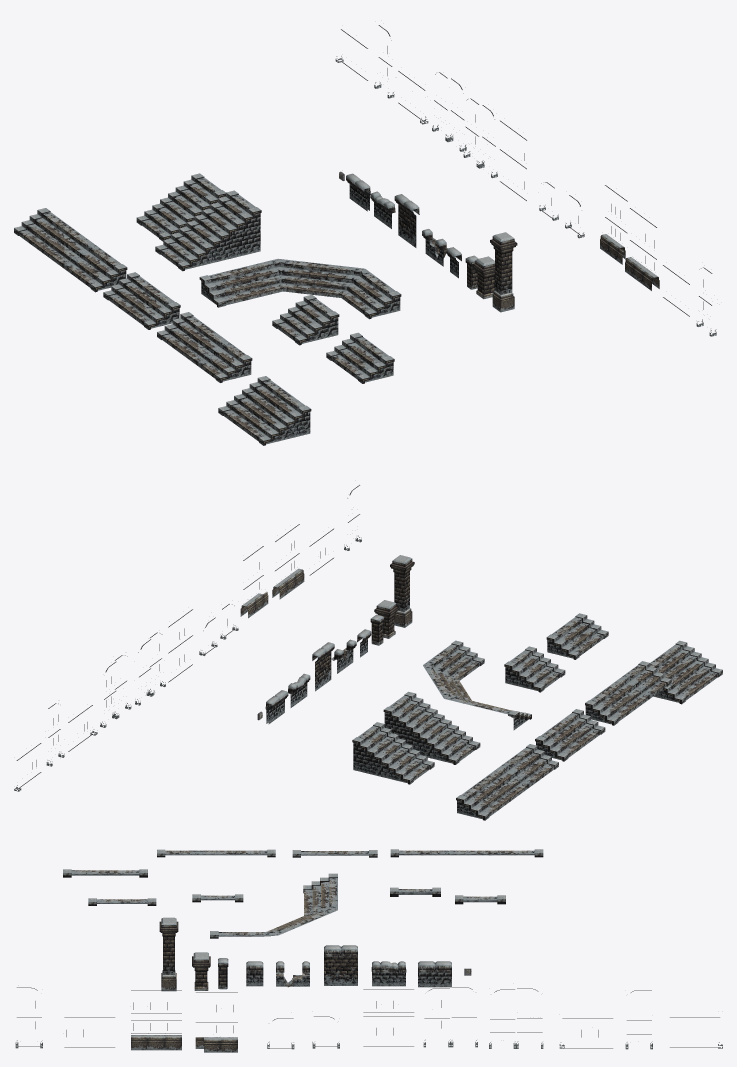
Rendered from EnvMdrMD_Snow_B_Jail_Exterior_Fence_A.FBX.
3 views of the same model, one above another, from view 1: azimuth 30°, elevation 25°; view 2: azimuth 150°, elevation 25°; view 3: azimuth 270°, elevation 25° (orthographic). The views are drawn at different scales.
Parts seen in each view (by area): view 1: EnvMdrMD_Snow_B_Jail_Exterior_Stairs_A_Unique_A, EnvMdrMD_Snow_B_Jail_Exterior_Stairs_A_10S2W, EnvMdrMD_Snow_B_Jail_Exterior_Stairs_A_4S8W, EnvMdrMD_Snow_B_Jail_Exterior_Stairs_A_6S4W, EnvMdrMD_Snow_B_Jail_Exterior_Stairs_A_4S6W, EnvMdrMD_Snow_B_Jail_Exterior_Stairs_A_8S2W, EnvMdrMD_Snow_B_Jail_Exterior_Stairs_A_4S4W, EnvMdrMD_Snow_B_Jail_Exterior_Stairs_A_5S2W, EnvMdrMD_Snow_B_Jail_Exterior_Stairs_A_4S3W, EnvMdrMD_Snow_B_Jail_Exterior_Pillar_A, EnvMdrMD_Snow_B_Jail_Exterior_Wall_A_Loop_B, EnvMdrMD_Snow_B_Jail_Exterior_Pillar_B (+1 smaller); view 2: EnvMdrMD_Snow_B_Jail_Exterior_Stairs_A_10S2W, EnvMdrMD_Snow_B_Jail_Exterior_Stairs_A_4S8W, EnvMdrMD_Snow_B_Jail_Exterior_Stairs_A_8S2W, EnvMdrMD_Snow_B_Jail_Exterior_Stairs_A_4S6W, EnvMdrMD_Snow_B_Jail_Exterior_Stairs_A_Unique_A, EnvMdrMD_Snow_B_Jail_Exterior_Stairs_A_6S4W, EnvMdrMD_Snow_B_Jail_Exterior_Stairs_A_4S4W, EnvMdrMD_Snow_B_Jail_Exterior_Stairs_A_5S2W, EnvMdrMD_Snow_B_Jail_Exterior_Stairs_A_4S3W, EnvMdrMD_Snow_B_Jail_Exterior_Pillar_A, EnvMdrMD_Snow_B_Jail_Exterior_Wall_A_Loop_B, EnvMdrMD_Snow_B_Jail_Exterior_Fence_A (+1 smaller); view 3: EnvMdrMD_Snow_B_Jail_Exterior_Stairs_A_Unique_A, EnvMdrMD_Snow_B_Jail_Exterior_Wall_A_Loop_B, EnvMdrMD_Snow_B_Jail_Exterior_Pillar_A, EnvMdrMD_Snow_B_Jail_Exterior_Fence_A, EnvMdrMD_Snow_B_Jail_Exterior_Stairs_A_4S8W, EnvMdrMD_Snow_B_Jail_Exterior_Wall_A_Loop_A, EnvMdrMD_Snow_B_Jail_Exterior_Wall_A_Loop_A_Broken_B, EnvMdrMD_Snow_B_Jail_Exterior_Fence_B, EnvMdrMD_Snow_B_Jail_Exterior_Stairs_A_4S6W, EnvMdrMD_Snow_B_Jail_Exterior_Pillar_B, EnvMdrMD_Snow_B_Jail_Exterior_Wall_A_Loop_A_Broken_A, EnvMdrMD_Snow_B_Jail_Exterior_Stairs_A_6S4W (+6 smaller).
Boxes of the visible parts, x1,y1,x2,y2 form: EnvMdrMD_Snow_B_Jail_Exterior_Stairs_A_Unique_A: (199, 258, 401, 319); EnvMdrMD_Snow_B_Jail_Exterior_Stairs_A_10S2W: (155, 190, 261, 271); EnvMdrMD_Snow_B_Jail_Exterior_Stairs_A_4S8W: (14, 208, 127, 292); EnvMdrMD_Snow_B_Jail_Exterior_Stairs_A_6S4W: (218, 376, 311, 445); EnvMdrMD_Snow_B_Jail_Exterior_Stairs_A_4S6W: (157, 312, 252, 382); EnvMdrMD_Snow_B_Jail_Exterior_Stairs_A_8S2W: (136, 173, 225, 241); EnvMdrMD_Snow_B_Jail_Exterior_Stairs_A_4S4W: (103, 272, 180, 329); EnvMdrMD_Snow_B_Jail_Exterior_Stairs_A_5S2W: (272, 294, 339, 345); EnvMdrMD_Snow_B_Jail_Exterior_Stairs_A_4S3W: (326, 332, 394, 383); EnvMdrMD_Snow_B_Jail_Exterior_Pillar_A: (490, 232, 517, 312); EnvMdrMD_Snow_B_Jail_Exterior_Wall_A_Loop_B: (394, 194, 419, 247); EnvMdrMD_Snow_B_Jail_Exterior_Pillar_B: (472, 256, 494, 299); EnvMdrMD_Snow_B_Jail_Exterior_Stairs_A_10S2W: (383, 691, 480, 764); EnvMdrMD_Snow_B_Jail_Exterior_Stairs_A_4S8W: (456, 744, 558, 820); EnvMdrMD_Snow_B_Jail_Exterior_Stairs_A_8S2W: (352, 722, 434, 784); EnvMdrMD_Snow_B_Jail_Exterior_Stairs_A_4S6W: (585, 661, 671, 725); EnvMdrMD_Snow_B_Jail_Exterior_Stairs_A_Unique_A: (423, 640, 531, 730); EnvMdrMD_Snow_B_Jail_Exterior_Stairs_A_6S4W: (650, 640, 722, 704); EnvMdrMD_Snow_B_Jail_Exterior_Stairs_A_4S4W: (535, 709, 605, 761); EnvMdrMD_Snow_B_Jail_Exterior_Stairs_A_5S2W: (504, 646, 565, 692); EnvMdrMD_Snow_B_Jail_Exterior_Stairs_A_4S3W: (546, 613, 608, 659); EnvMdrMD_Snow_B_Jail_Exterior_Pillar_A: (390, 555, 414, 627); EnvMdrMD_Snow_B_Jail_Exterior_Wall_A_Loop_B: (312, 642, 334, 691); EnvMdrMD_Snow_B_Jail_Exterior_Fence_A: (272, 524, 304, 599); EnvMdrMD_Snow_B_Jail_Exterior_Stairs_A_Unique_A: (210, 873, 337, 938); EnvMdrMD_Snow_B_Jail_Exterior_Wall_A_Loop_B: (324, 945, 357, 985); EnvMdrMD_Snow_B_Jail_Exterior_Pillar_A: (159, 917, 178, 991); EnvMdrMD_Snow_B_Jail_Exterior_Fence_A: (131, 990, 181, 1050); EnvMdrMD_Snow_B_Jail_Exterior_Stairs_A_4S8W: (390, 849, 543, 857); EnvMdrMD_Snow_B_Jail_Exterior_Wall_A_Loop_A: (418, 961, 451, 987); EnvMdrMD_Snow_B_Jail_Exterior_Wall_A_Loop_A_Broken_B: (371, 961, 406, 986); EnvMdrMD_Snow_B_Jail_Exterior_Fence_B: (195, 992, 237, 1052); EnvMdrMD_Snow_B_Jail_Exterior_Stairs_A_4S6W: (157, 849, 275, 857); EnvMdrMD_Snow_B_Jail_Exterior_Pillar_B: (192, 952, 210, 990); EnvMdrMD_Snow_B_Jail_Exterior_Wall_A_Loop_A_Broken_A: (276, 961, 309, 987); EnvMdrMD_Snow_B_Jail_Exterior_Stairs_A_6S4W: (63, 869, 147, 877).
Size of the model in its own units: 2795 by 630 by 4178.
